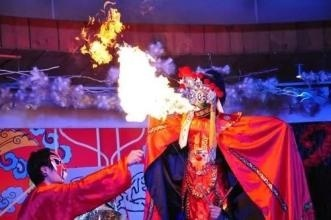fire: (114, 45, 184, 118), (76, 3, 125, 67)
